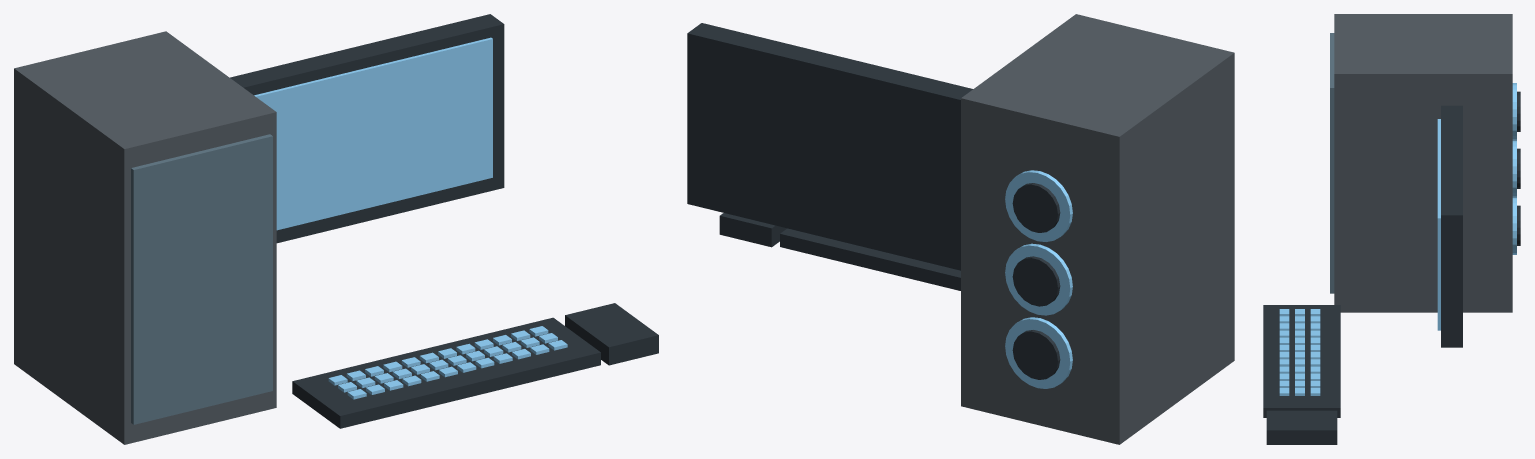
Rendered from gaming-pc-lod0.glb.
3 renders of one model, left to right at view 1: azimuth 30°, elevation 25°; view 2: azimuth 150°, elevation 25°; view 3: azimuth 270°, elevation 25°, orthographic. The views are drawn at different scales.
Parts seen in each view (by area): view 1: tower, side_glass, screen, keyboard, monitor, mouse; view 2: tower, monitor, keyboard, fan_outer_2, fan_outer_0, fan_outer_1, fan_inner_1, fan_inner_2, fan_inner_0, mouse; view 3: tower, keyboard, monitor, mouse, side_glass, screen, fan_outer_2, fan_outer_0, fan_outer_1.
Boxes of the visible parts, left/top/right/bottom form: tower: left=14, top=31, right=276, bottom=444; side_glass: left=131, top=134, right=272, bottom=424; screen: left=254, top=37, right=492, bottom=230; keyboard: left=292, top=317, right=600, bottom=428; monitor: left=230, top=14, right=504, bottom=243; mouse: left=565, top=303, right=658, bottom=365; tower: left=961, top=14, right=1234, bottom=444; monitor: left=687, top=23, right=972, bottom=270; keyboard: left=780, top=228, right=960, bottom=290; fan_outer_2: left=1005, top=170, right=1072, bottom=241; fan_outer_0: left=1005, top=317, right=1072, bottom=388; fan_outer_1: left=1005, top=243, right=1072, bottom=315; fan_inner_1: left=1012, top=256, right=1060, bottom=306; fan_inner_2: left=1012, top=183, right=1060, bottom=232; fan_inner_0: left=1012, top=330, right=1060, bottom=379; mouse: left=719, top=213, right=786, bottom=247; tower: left=1334, top=14, right=1512, bottom=312; keyboard: left=1263, top=305, right=1340, bottom=417; monitor: left=1441, top=105, right=1462, bottom=347; mouse: left=1266, top=410, right=1337, bottom=444; side_glass: left=1330, top=33, right=1334, bottom=293; screen: left=1437, top=119, right=1440, bottom=330; fan_outer_2: left=1512, top=83, right=1516, bottom=140; fan_outer_0: left=1512, top=198, right=1516, bottom=254; fan_outer_1: left=1512, top=141, right=1516, bottom=197.
Bounding box in the file's own units: 11.32 × 6.5 × 6.34.
